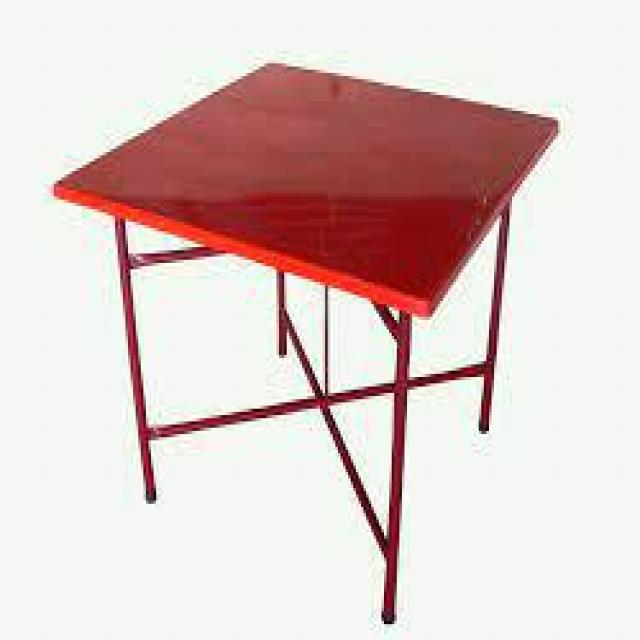desk: (50, 19, 567, 596)
